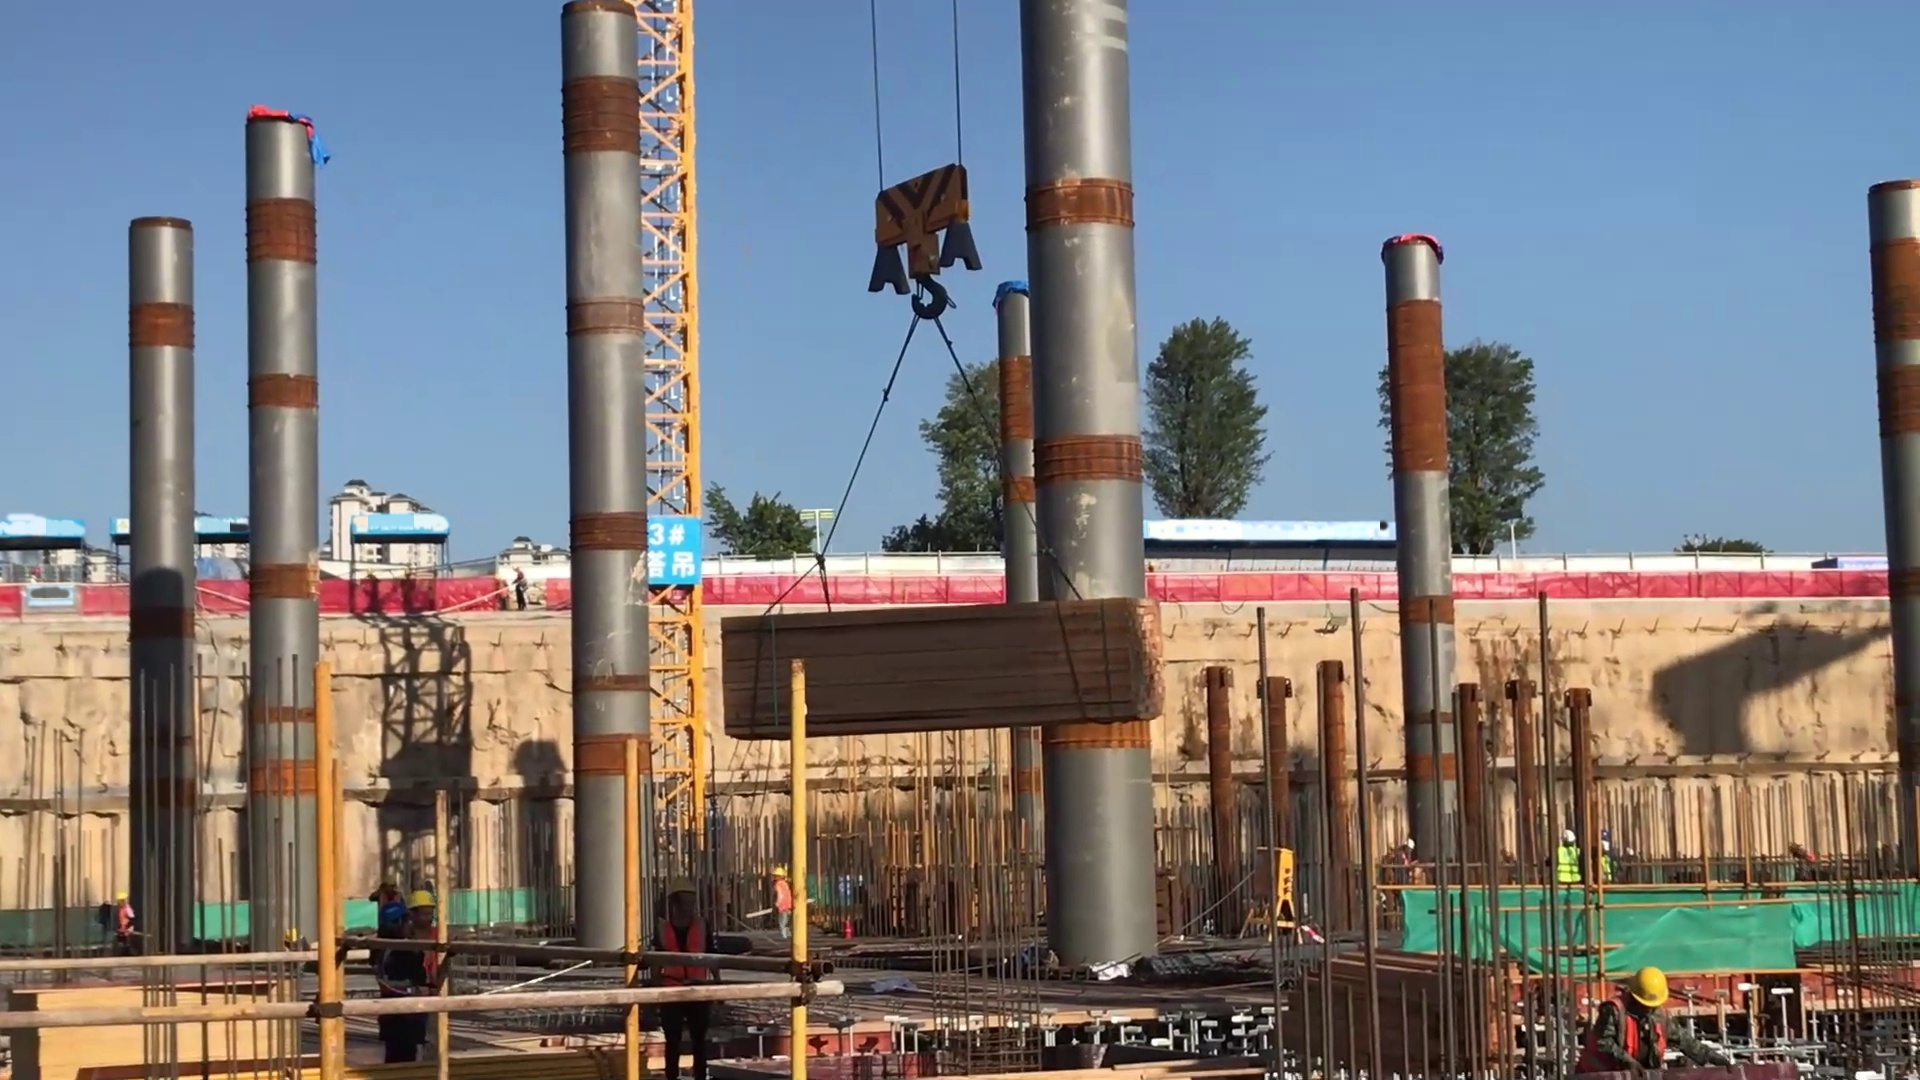ebox: (1233, 833, 1316, 943)
helmet: (1619, 946, 1683, 1023), (404, 883, 450, 911), (102, 881, 140, 906), (1397, 829, 1425, 849), (1558, 820, 1573, 842)
hook: (862, 162, 982, 323)
person: (646, 884, 727, 1080), (1578, 960, 1662, 1080), (392, 877, 462, 993)
vest: (373, 914, 447, 997), (1585, 996, 1654, 1080), (656, 924, 721, 1001), (1555, 831, 1583, 879), (1408, 854, 1435, 896), (113, 899, 139, 924)
wood: (706, 588, 1173, 738)
